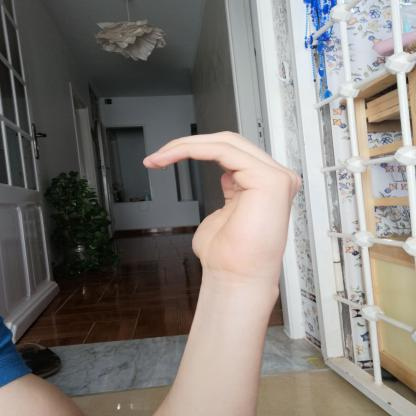HAA: (122, 118, 320, 293)
